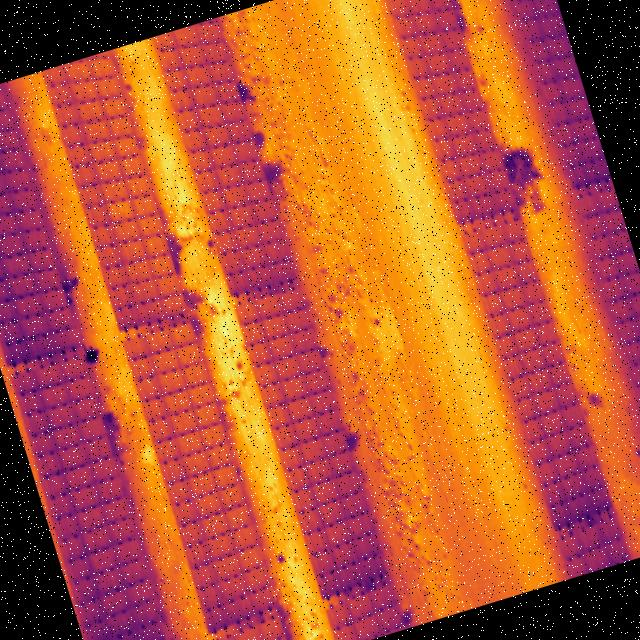Hotspot: (105, 196, 135, 222)
